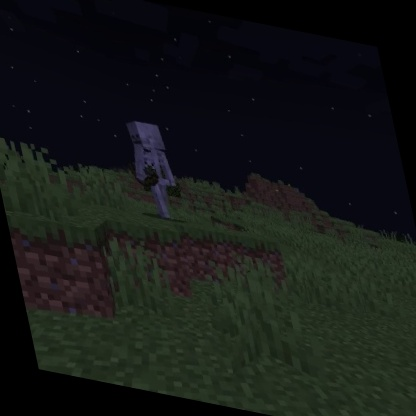skeleton: (115, 114, 188, 225)
